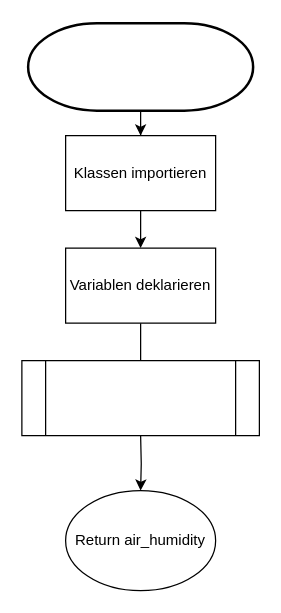
This 281x613 diagram has some shape labels left out. Each missing label, with the centre of its shape:
"def get_air_humidity()" goes at [140,66].
"Luftfeuchtigkeitssensor messen" goes at [140,397].
